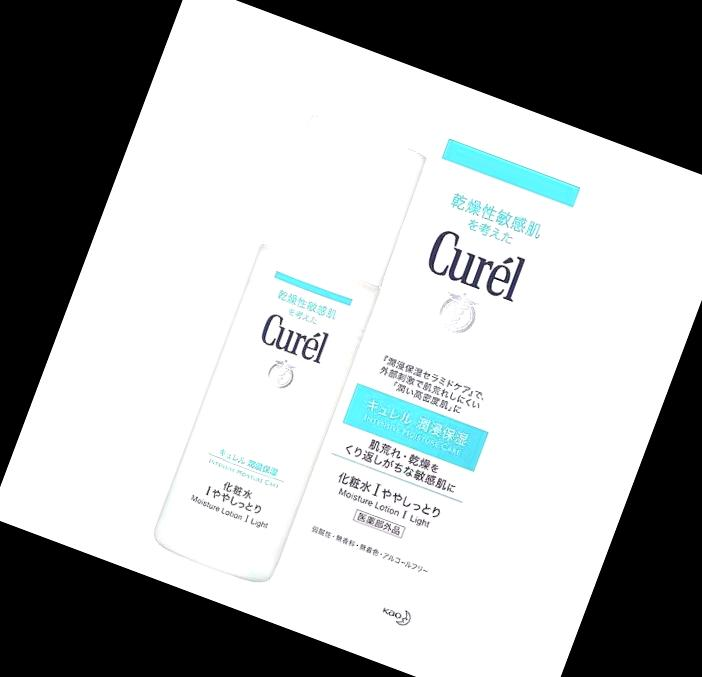cosmetic: (152, 111, 432, 579)
